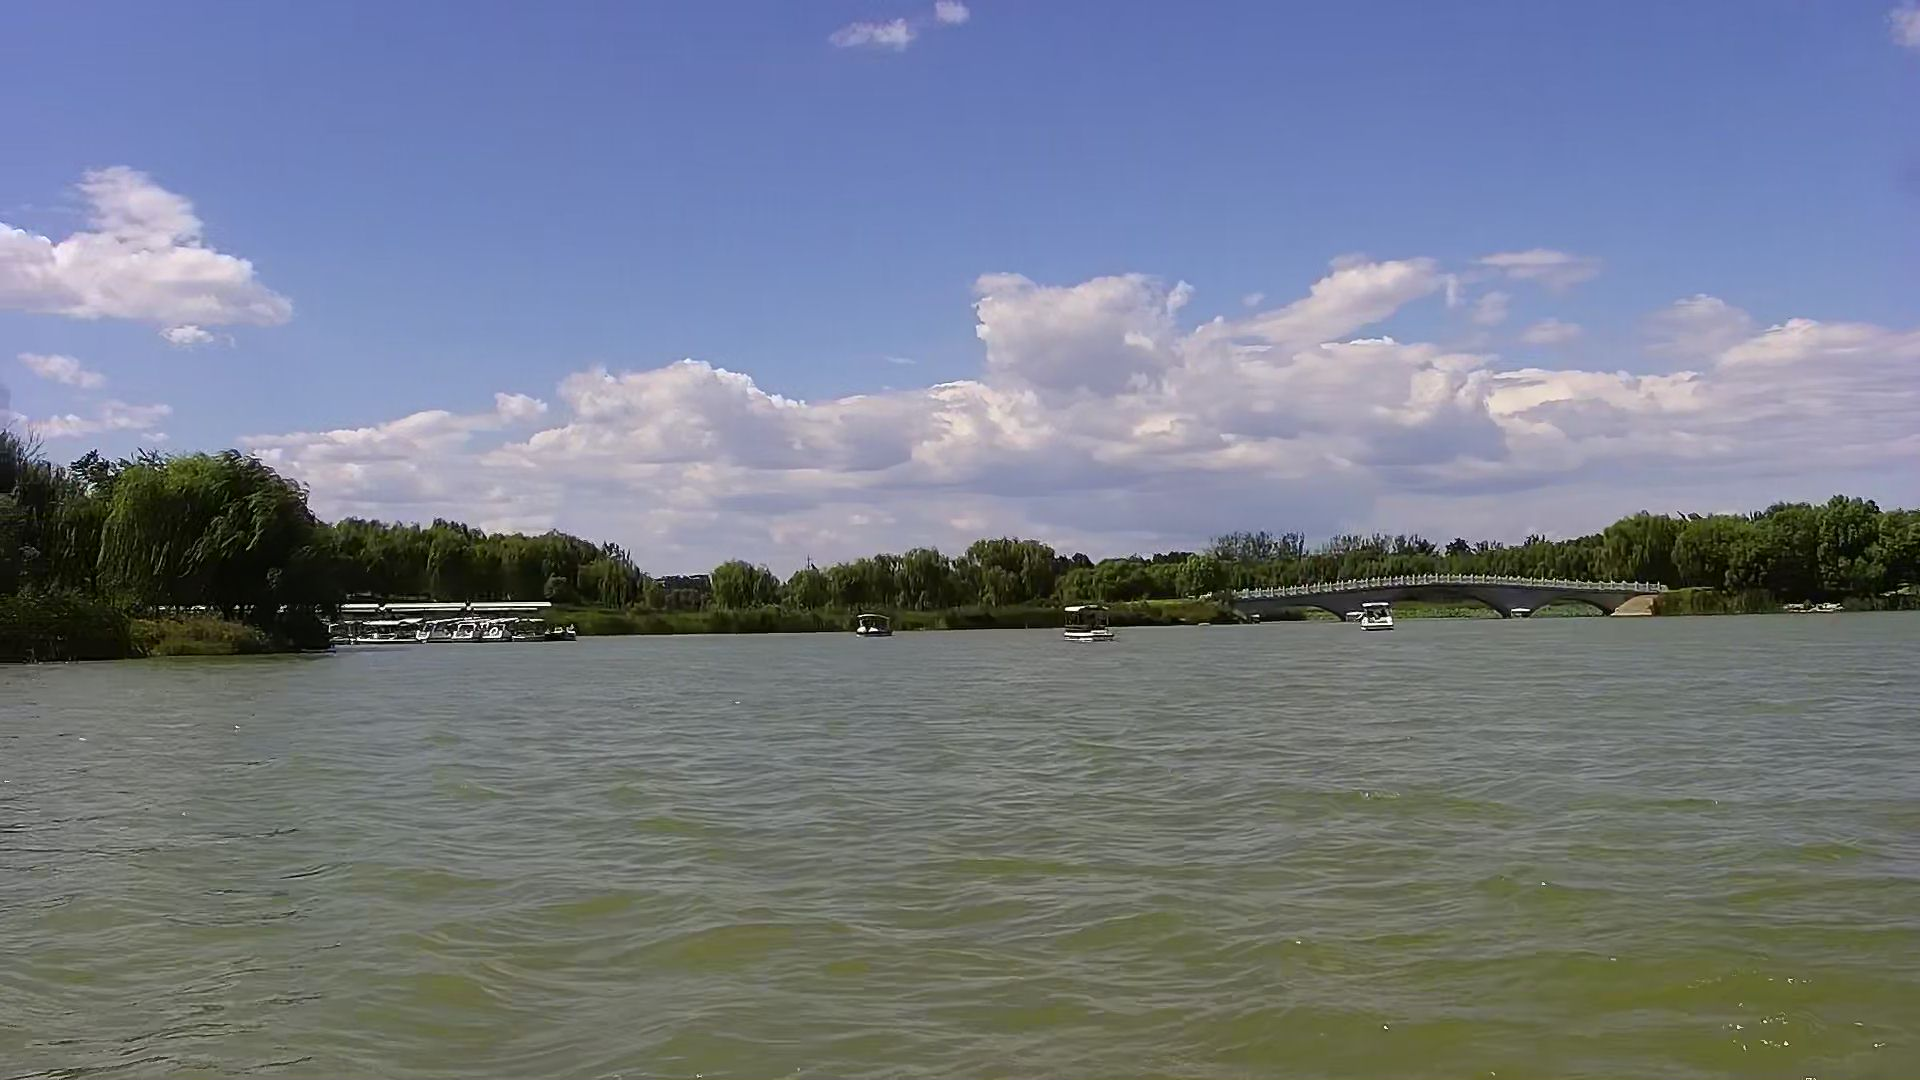boat: (1056, 597, 1116, 647), (1357, 593, 1396, 644), (853, 609, 895, 642)
bridge: (1225, 570, 1667, 633)
harbor: (328, 597, 585, 651)
